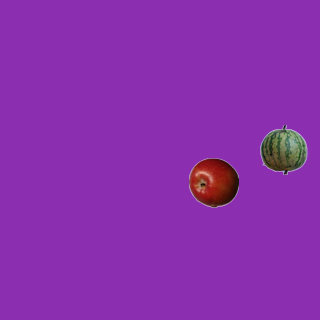Apple Braeburn: (188, 157, 238, 207)
Watermelon: (258, 124, 308, 174)
